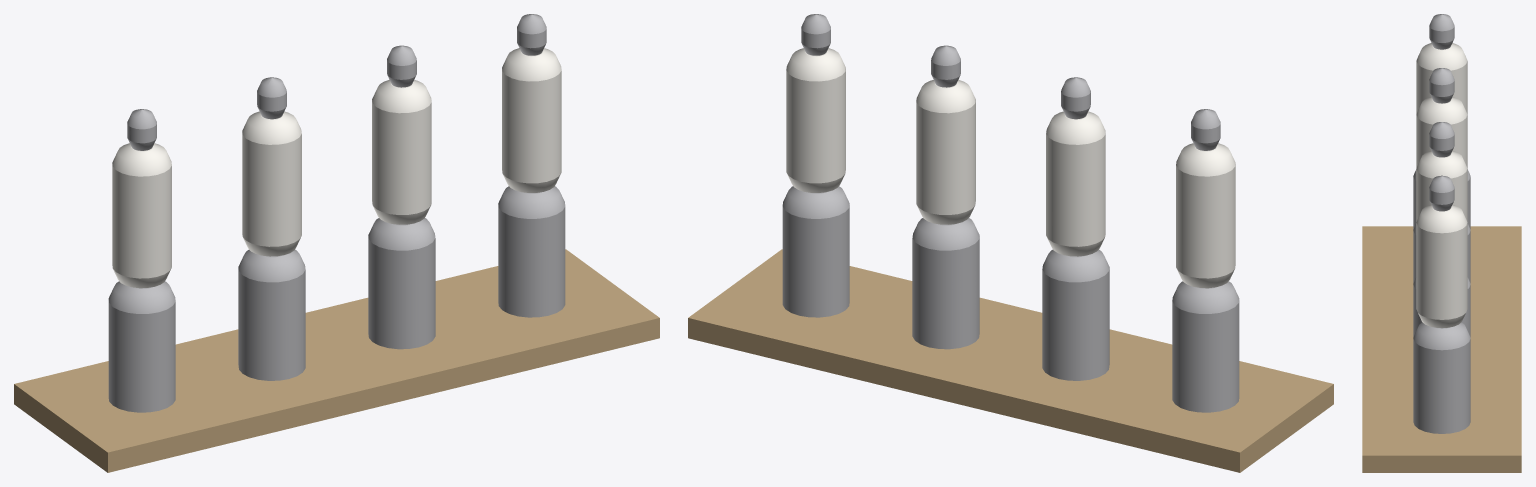
File: spark_plugs.glb
The picture shows the model from 3 angles, left to right: view 1: azimuth 30°, elevation 25°; view 2: azimuth 150°, elevation 25°; view 3: azimuth 270°, elevation 25°; orthographic projection. The views are drawn at different scales.
Visible parts, largest first — view 1: spark_plugs; view 2: spark_plugs; view 3: spark_plugs.
Boxes of the visible parts, x1,y1,x2,y2 form: spark_plugs: [14, 14, 659, 472]; spark_plugs: [688, 14, 1333, 472]; spark_plugs: [1362, 14, 1521, 472].
Size of the model in its own units: 0.17 by 0.091 by 0.05.
